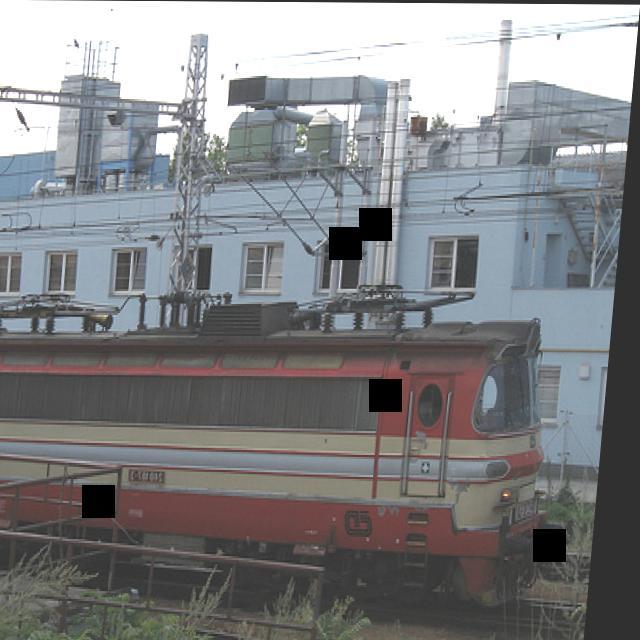locomotive: (0, 230, 587, 588)
